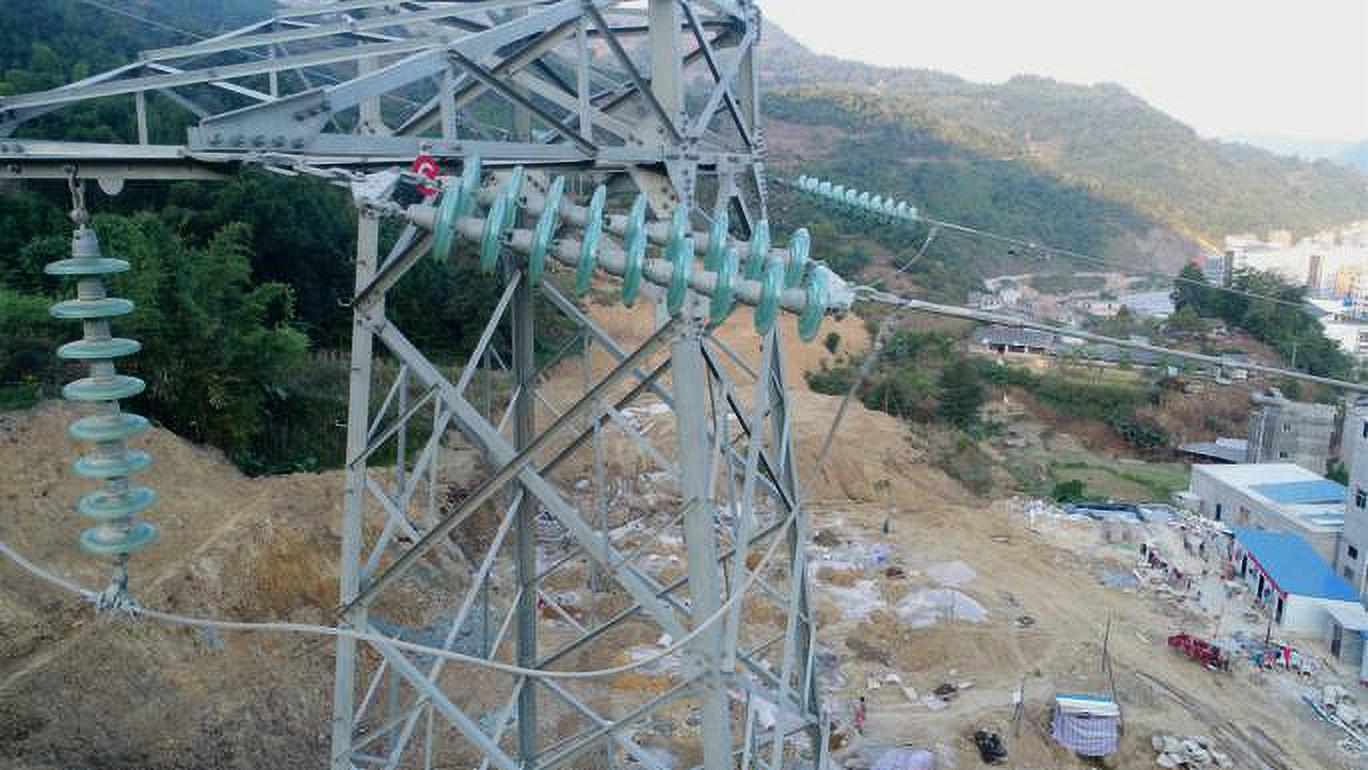insulator: (423, 148, 842, 349), (39, 253, 165, 562), (794, 170, 923, 239)
